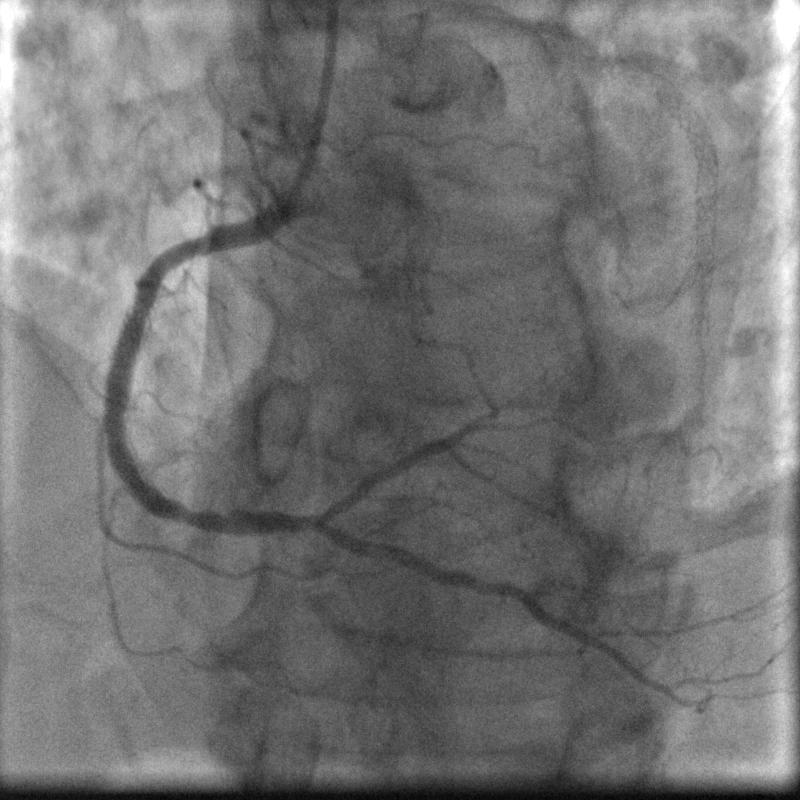Stenosis: (167, 229, 212, 271)
